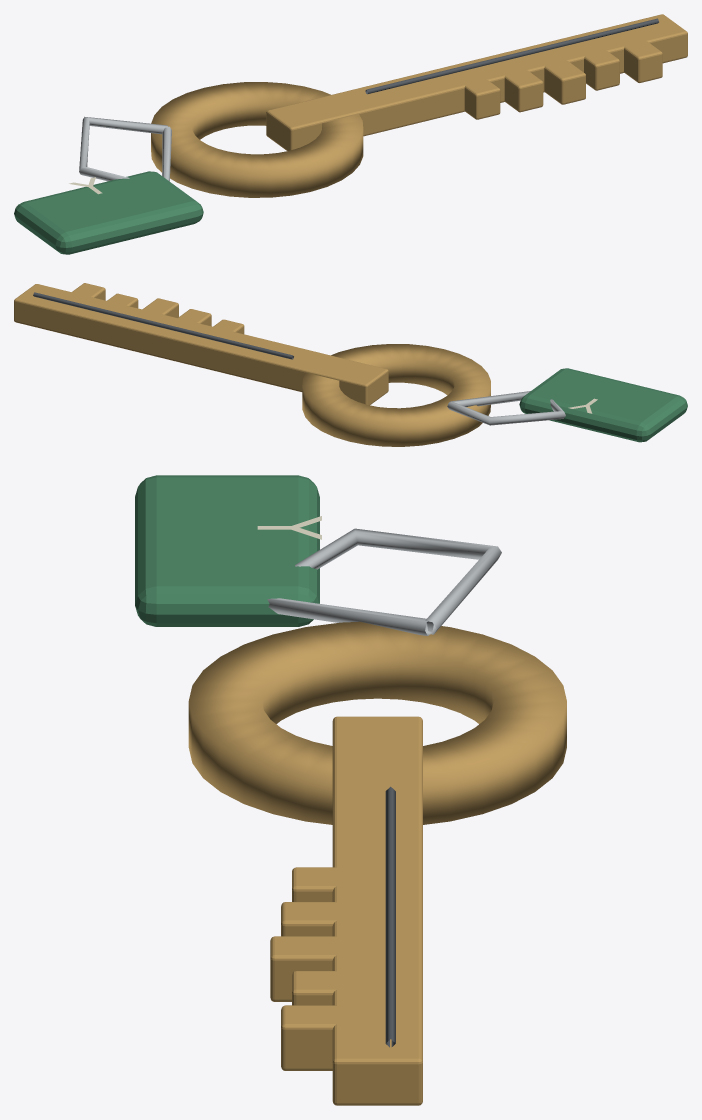
The model's file is yard_key.glb.
3 renders of one model, top to bottom at view 1: azimuth 30°, elevation 25°; view 2: azimuth 150°, elevation 25°; view 3: azimuth 270°, elevation 25°, orthographic. The views are drawn at different scales.
Visible parts, largest first — view 1: yard_key; view 2: yard_key; view 3: yard_key.
Boxes of the visible parts, x1,y1,x2,y2 form: yard_key: (14, 14, 687, 254); yard_key: (14, 283, 687, 446); yard_key: (135, 475, 566, 1105).
Size of the model in its own units: 0.326 by 0.0207 by 0.1005.
